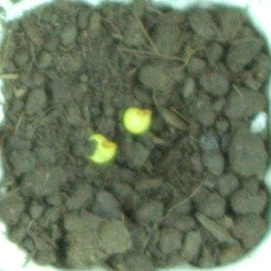chilli seed: (82, 132, 118, 164), (121, 105, 154, 134)
